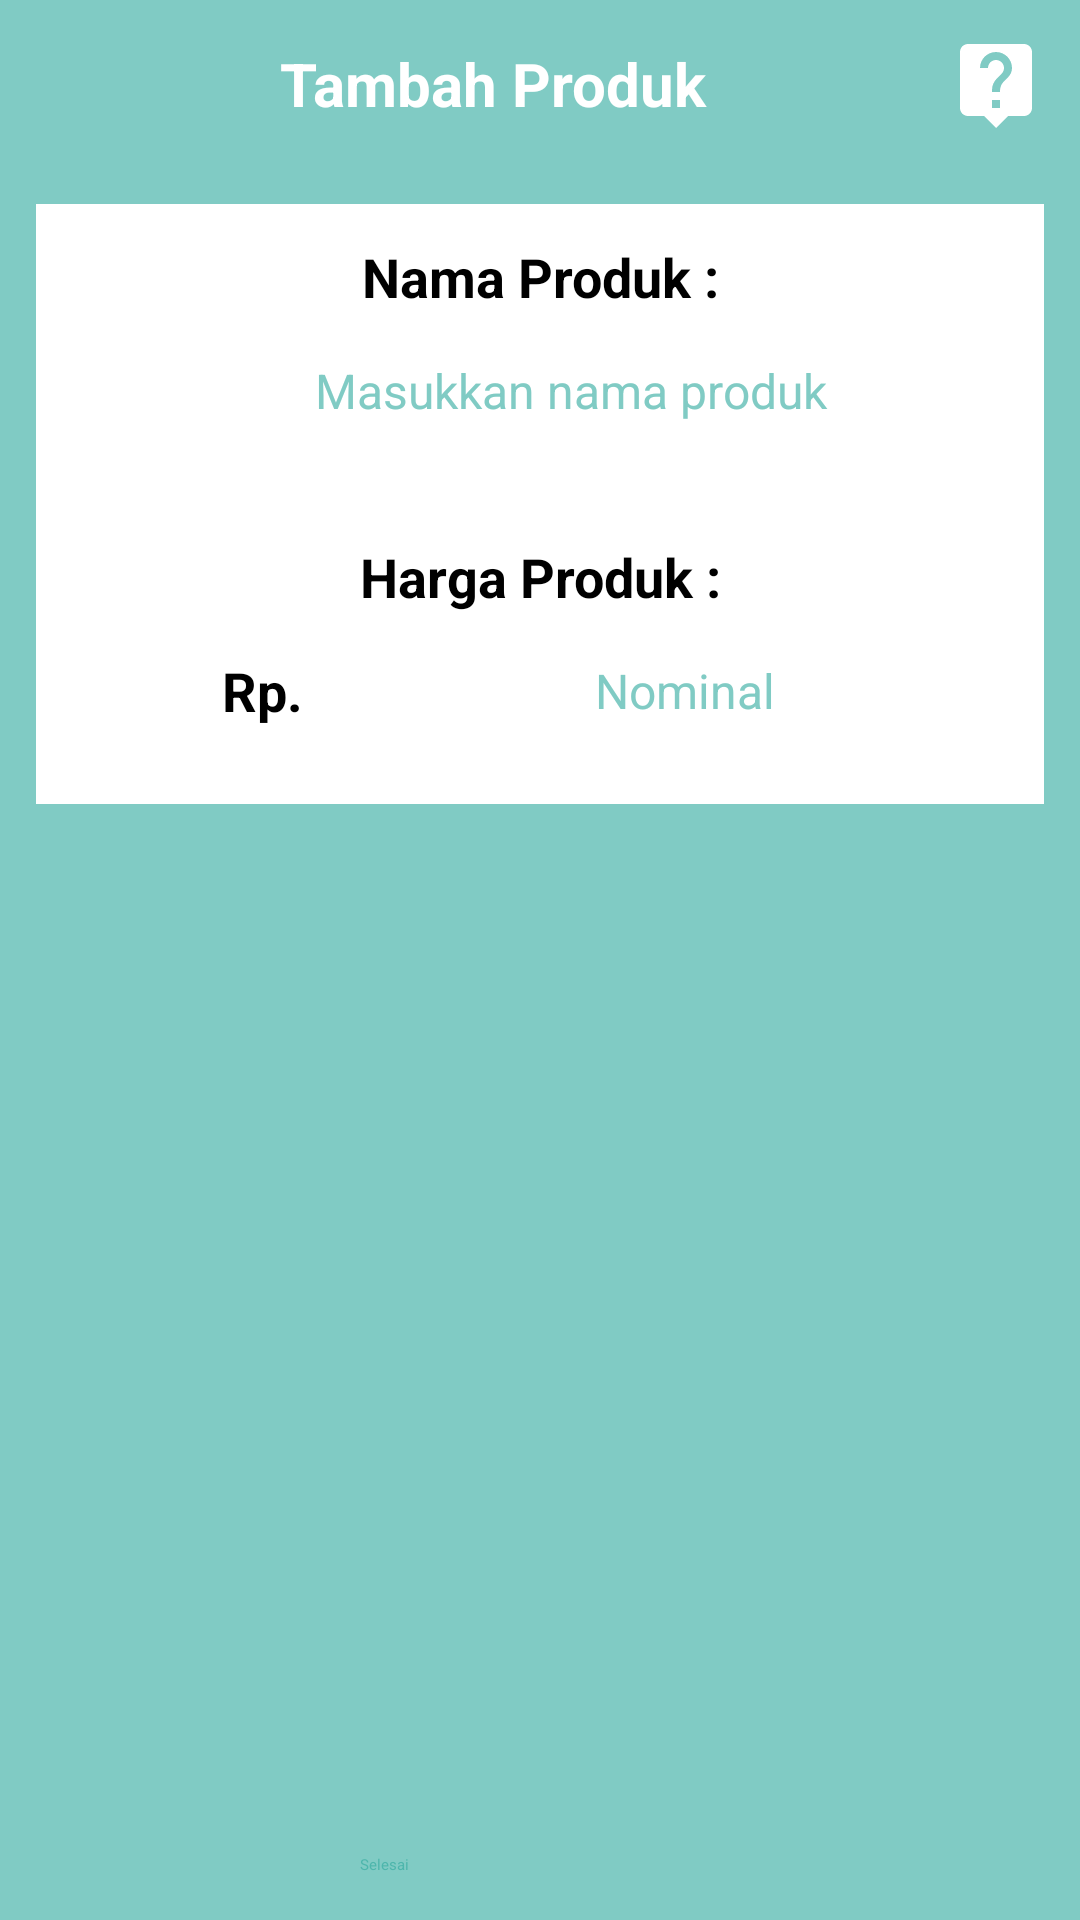

Icon click points for this 1080×1920 phone screenshot, format [x,y]:
live help: [996,86]
